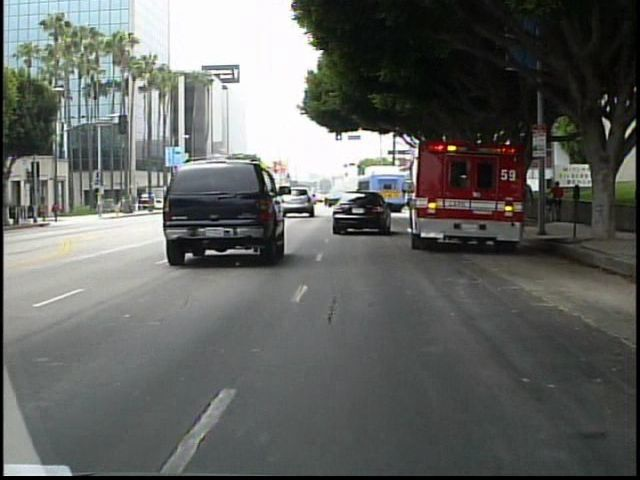person: (546, 177, 565, 225), (52, 198, 65, 224), (40, 200, 51, 224)
